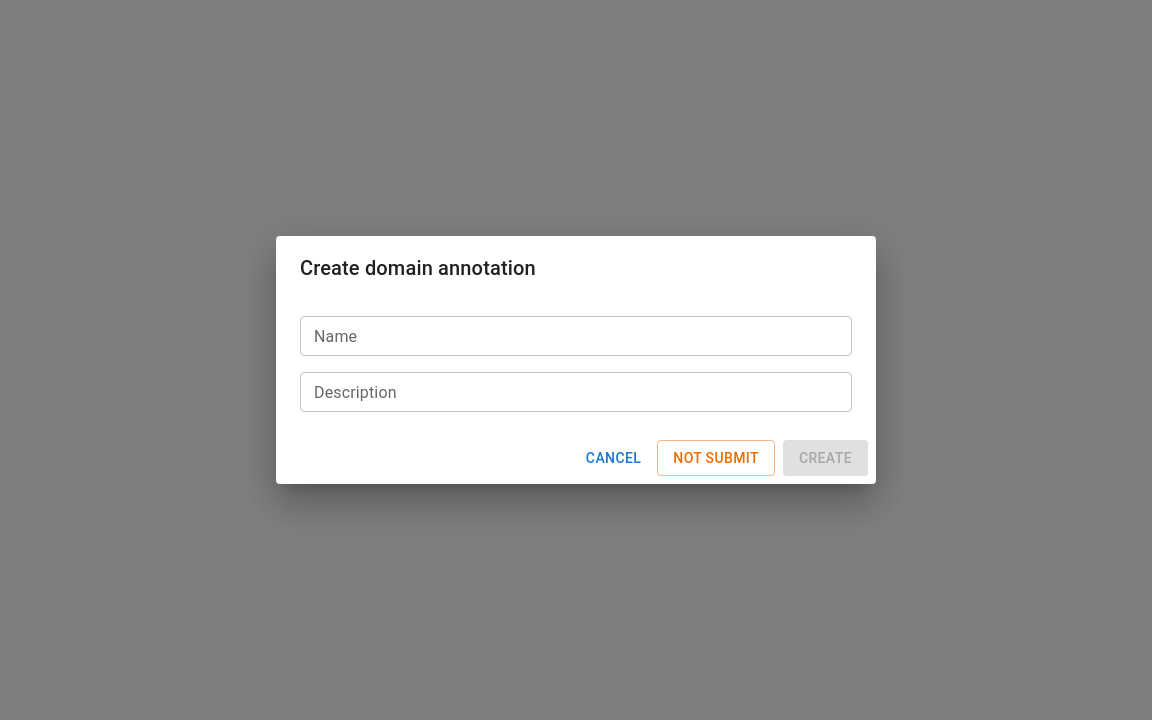
it: DomainAnnotationDialog › picking a matching domain auto-fills the description in the project's language
Type "AE" into the dropdown labelled "Name". click: (574, 336)
box: top-left (306, 322), bottom-right (843, 350)
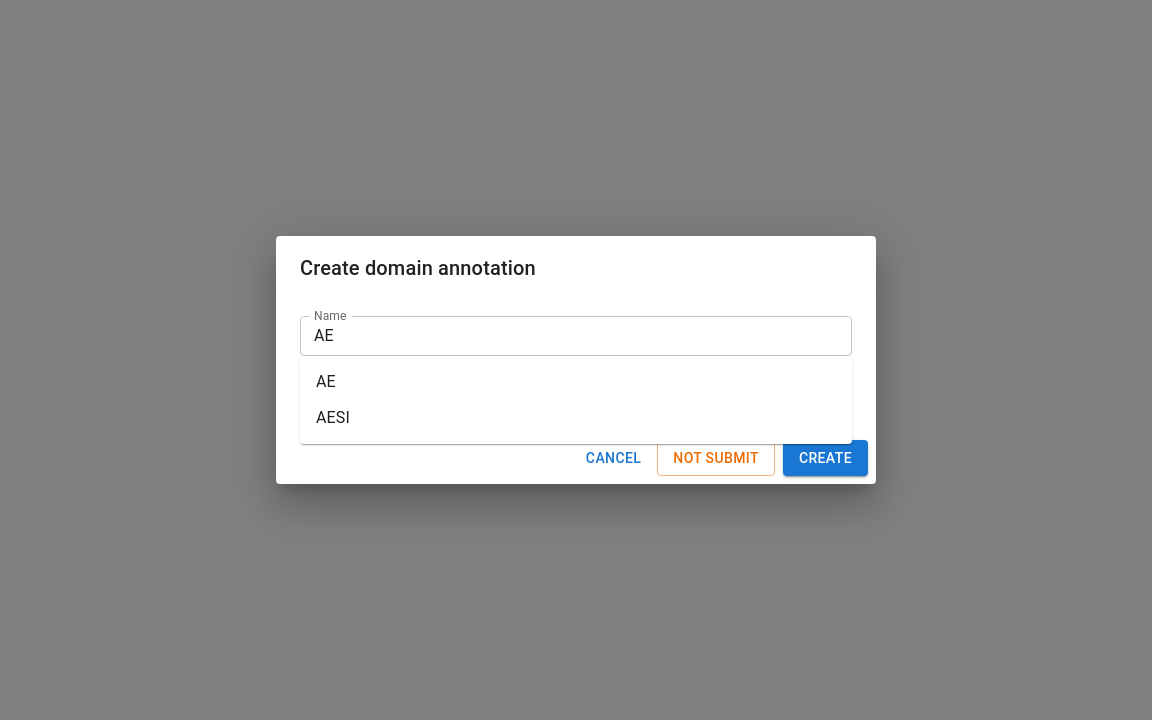
# Open the Autocomplete dropdown and pick the AE option.
Press ArrowDown in the dropdown labelled "Name", box top-left (306, 322), bottom-right (813, 350)
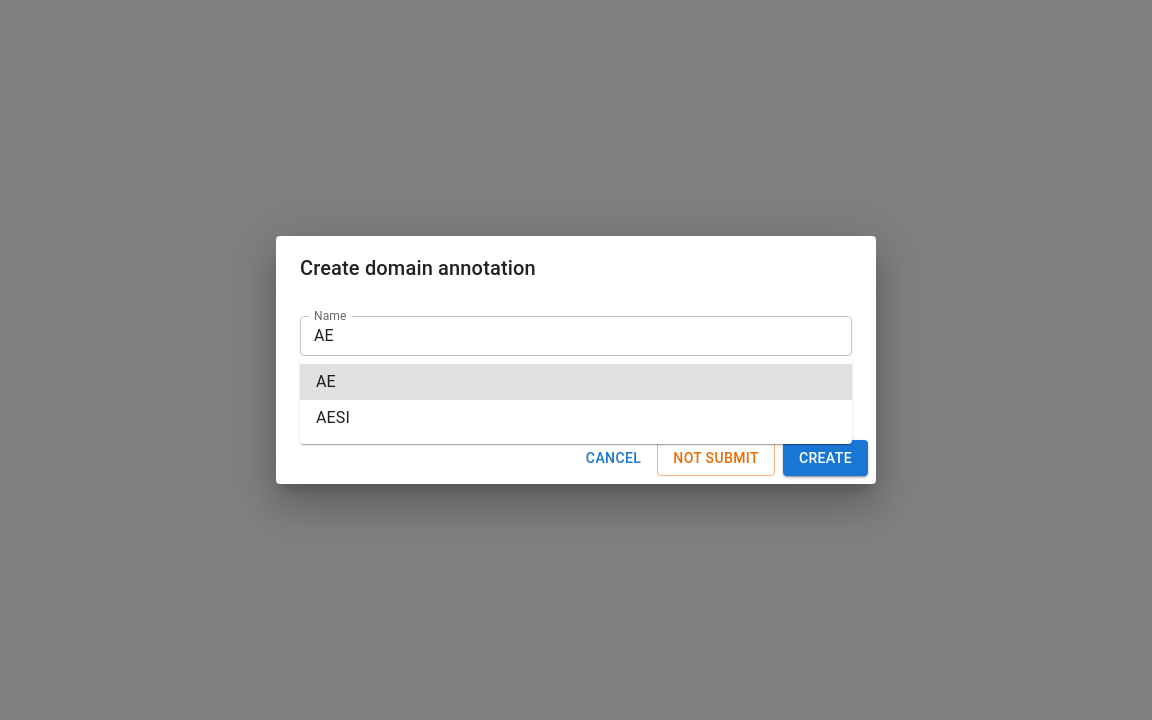
Click the option "AE". click: (326, 382)
box: top-left (300, 364), bottom-right (852, 400)
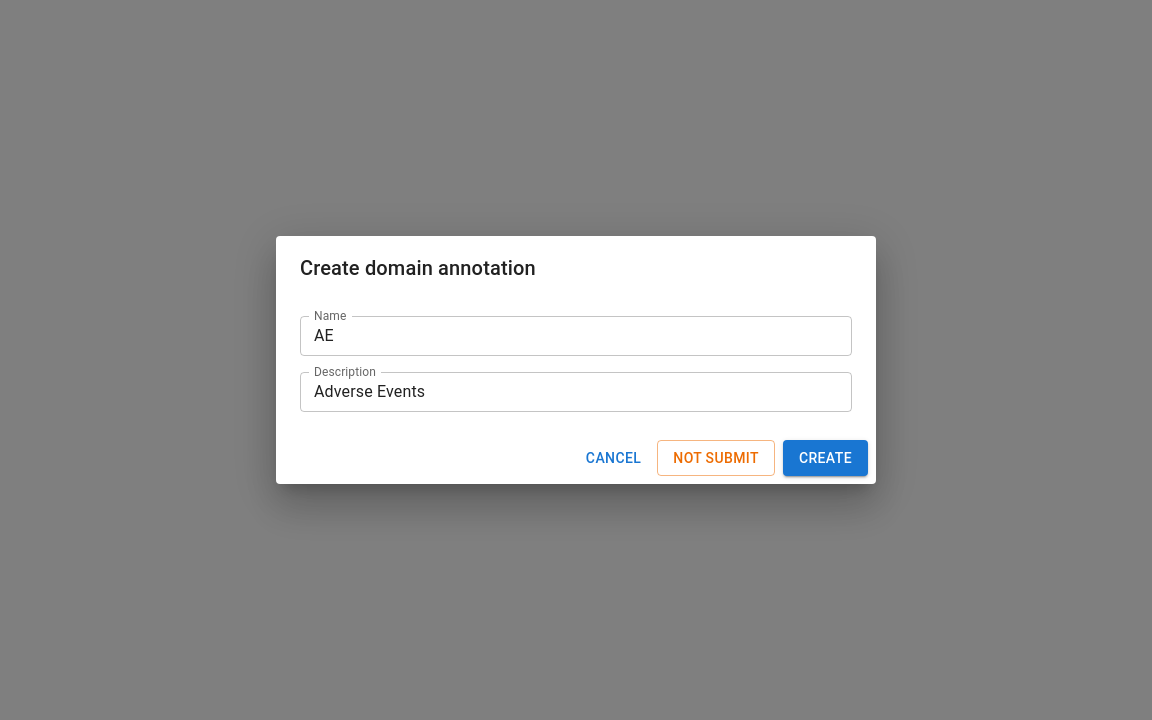
Result: the field labelled "Description" holds "Adverse Events" at top-left (300, 372), bottom-right (852, 412)
